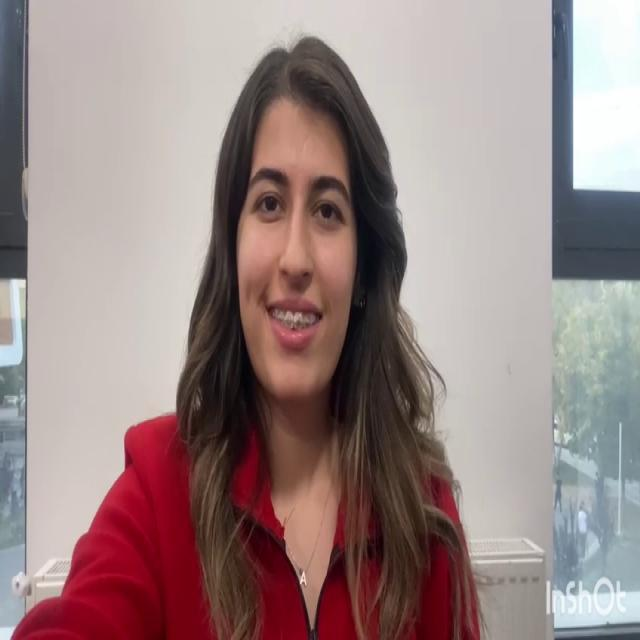happy: (236, 94, 360, 404)
